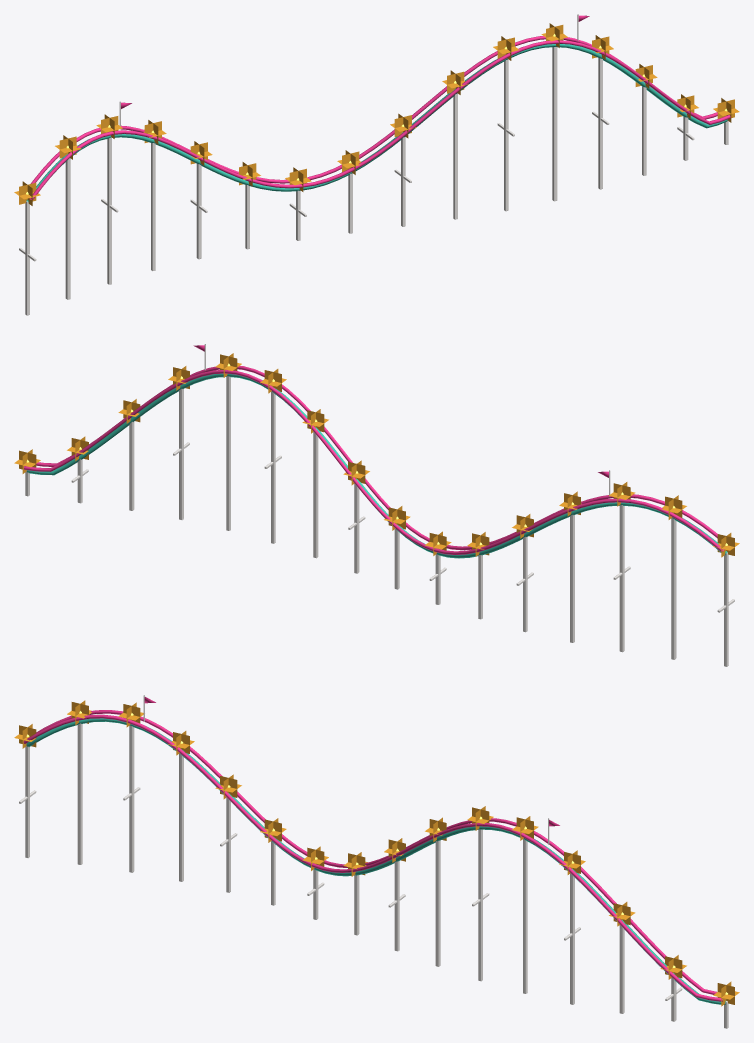
File: coaster.glb
3 renders of one model, top to bottom at view 1: azimuth 30°, elevation 25°; view 2: azimuth 150°, elevation 25°; view 3: azimuth 330°, elevation 25°, orthographic.
Parts seen in each view (by area): view 1: Coaster; view 2: Coaster; view 3: Coaster.
Part boxes in pixels (<box>): Coaster: <box>14,14,739,315</box>; Coaster: <box>14,344,739,666</box>; Coaster: <box>14,695,739,1028</box>.
Size of the model in its own units: 69.68 by 16.76 by 7.46.
